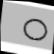no answer: (18, 13, 52, 48)
